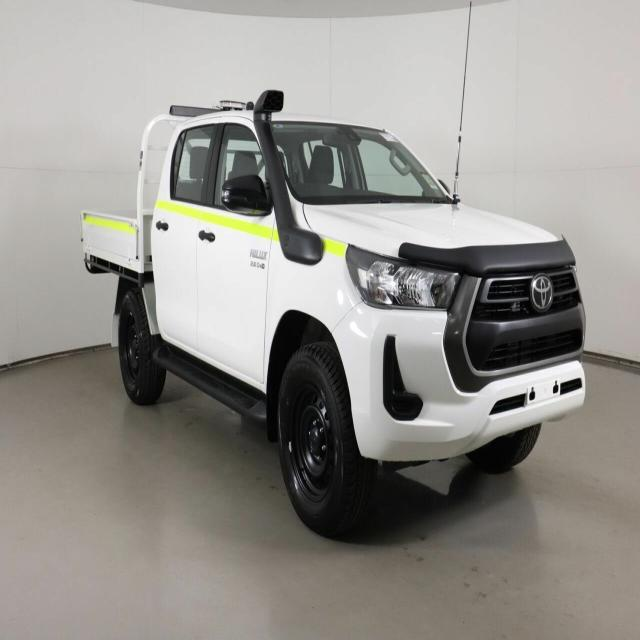light_vehicle: (76, 77, 594, 538)
